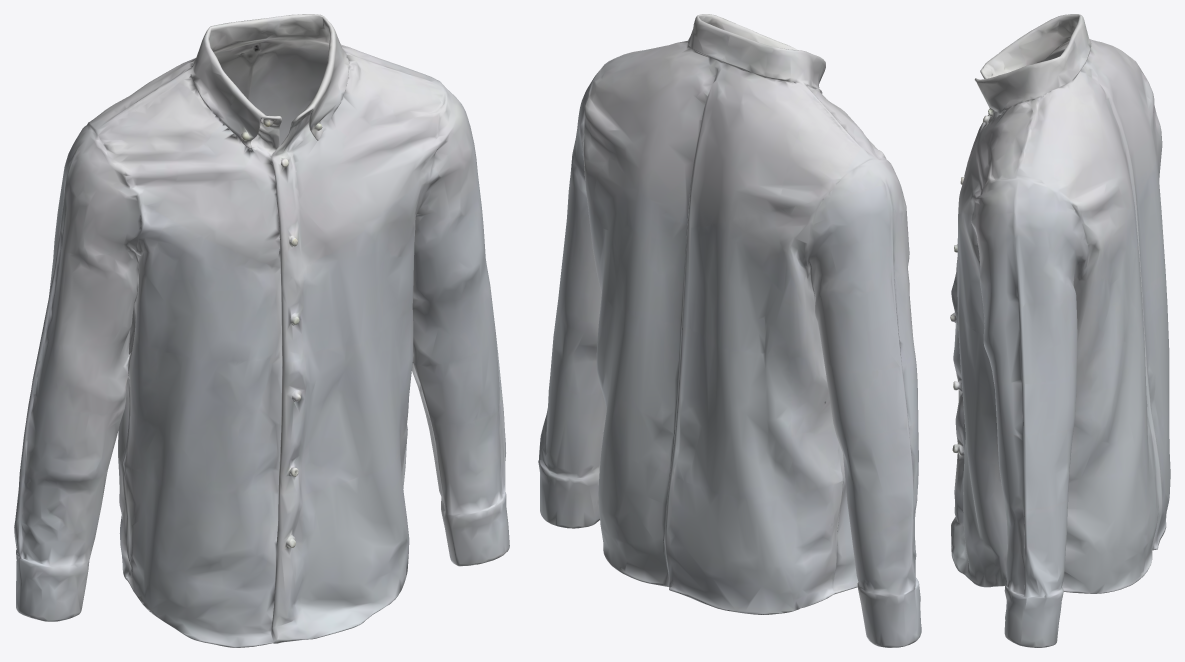
3 renders of one model, left to right at view 1: azimuth 30°, elevation 25°; view 2: azimuth 150°, elevation 25°; view 3: azimuth 270°, elevation 25°, orthographic. The views are drawn at different scales.
Parts seen in each view (by area): view 1: tripo_node_0d3e8637-74a9-4a16-a95e-0c5232e1de1f; view 2: tripo_node_0d3e8637-74a9-4a16-a95e-0c5232e1de1f; view 3: tripo_node_0d3e8637-74a9-4a16-a95e-0c5232e1de1f.
Part boxes in pixels (<box>): tripo_node_0d3e8637-74a9-4a16-a95e-0c5232e1de1f: <box>14,14,509,647</box>; tripo_node_0d3e8637-74a9-4a16-a95e-0c5232e1de1f: <box>538,14,921,647</box>; tripo_node_0d3e8637-74a9-4a16-a95e-0c5232e1de1f: <box>950,14,1170,647</box>.
Bounding box in the file's own units: 0.8048 × 0.9998 × 0.3836.
Materials: 1 (1 with a texture image).
